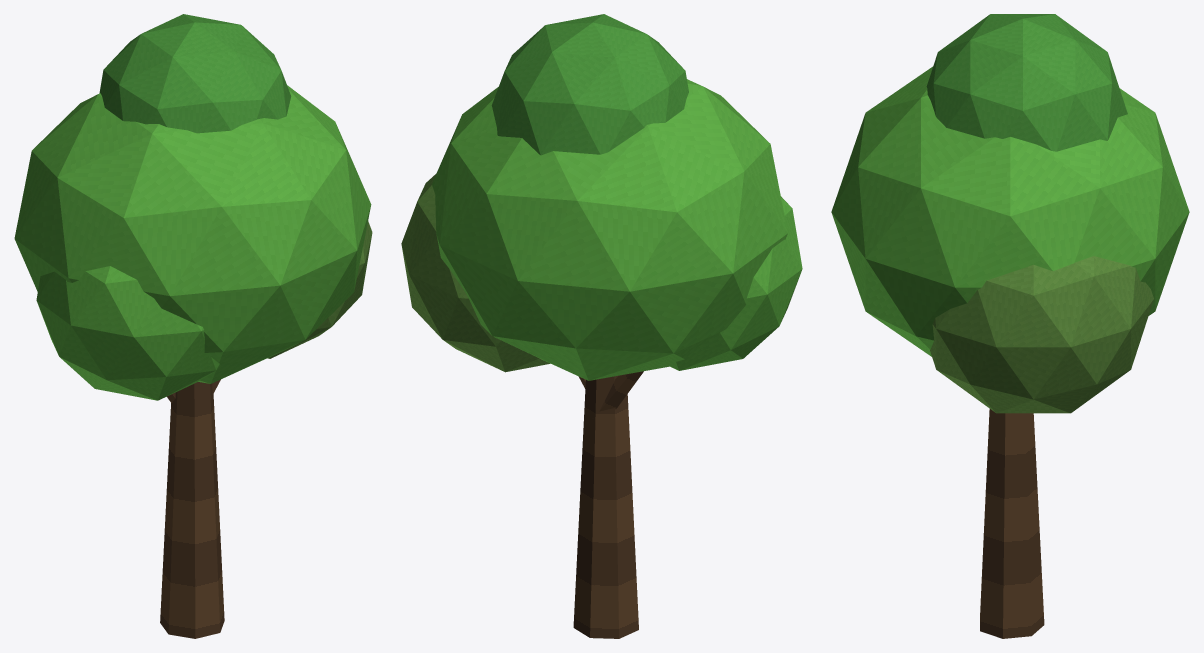
The model's file is tree-deciduous-lod0.glb.
3 views of the same model, side by side, from view 1: azimuth 30°, elevation 25°; view 2: azimuth 150°, elevation 25°; view 3: azimuth 270°, elevation 25° (orthographic). The views are drawn at different scales.
Parts seen in each view (by area): view 1: tree-deciduous-lod0; view 2: tree-deciduous-lod0; view 3: tree-deciduous-lod0.
Boxes of the visible parts, <box> form: tree-deciduous-lod0: <box>14,14,372,638</box>; tree-deciduous-lod0: <box>401,14,802,638</box>; tree-deciduous-lod0: <box>831,14,1189,638</box>.
Size of the model in its own units: 2.53 by 4.36 by 2.32.
1 material, 1 textured.
